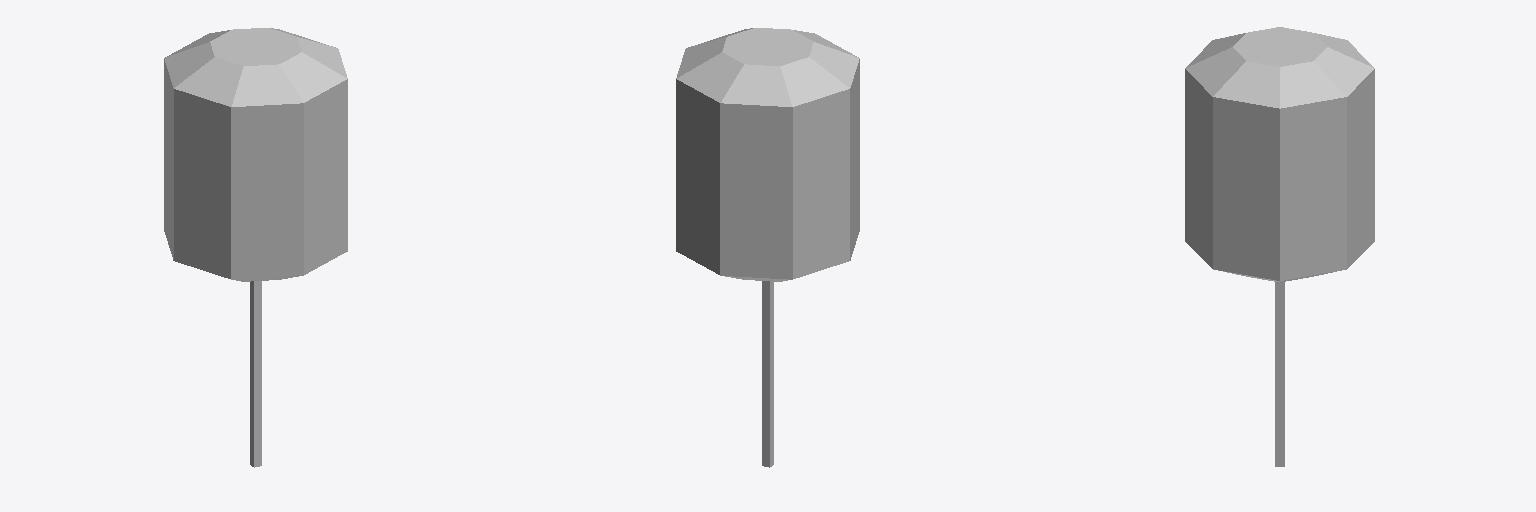
Rendered from neatTree_2.obj.
The picture shows the model from 3 angles: view 1: azimuth 30°, elevation 25°; view 2: azimuth 150°, elevation 25°; view 3: azimuth 270°, elevation 25°; orthographic projection.
Parts seen in each view (by area): view 1: neatTree.001_Cube.143; view 2: neatTree.001_Cube.143; view 3: neatTree.001_Cube.143.
Boxes of the visible parts, x1,y1,x2,y2 form: neatTree.001_Cube.143: [164, 28, 347, 467]; neatTree.001_Cube.143: [676, 28, 859, 467]; neatTree.001_Cube.143: [1185, 27, 1374, 466].
Bounding box in the file's own units: 2.09 × 5.07 × 2.09.